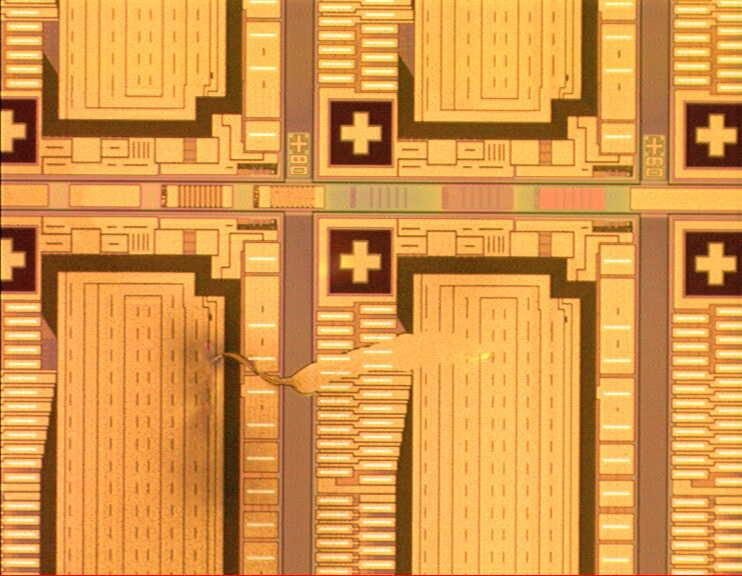BLOCK ETCH: (204, 328, 494, 397)
